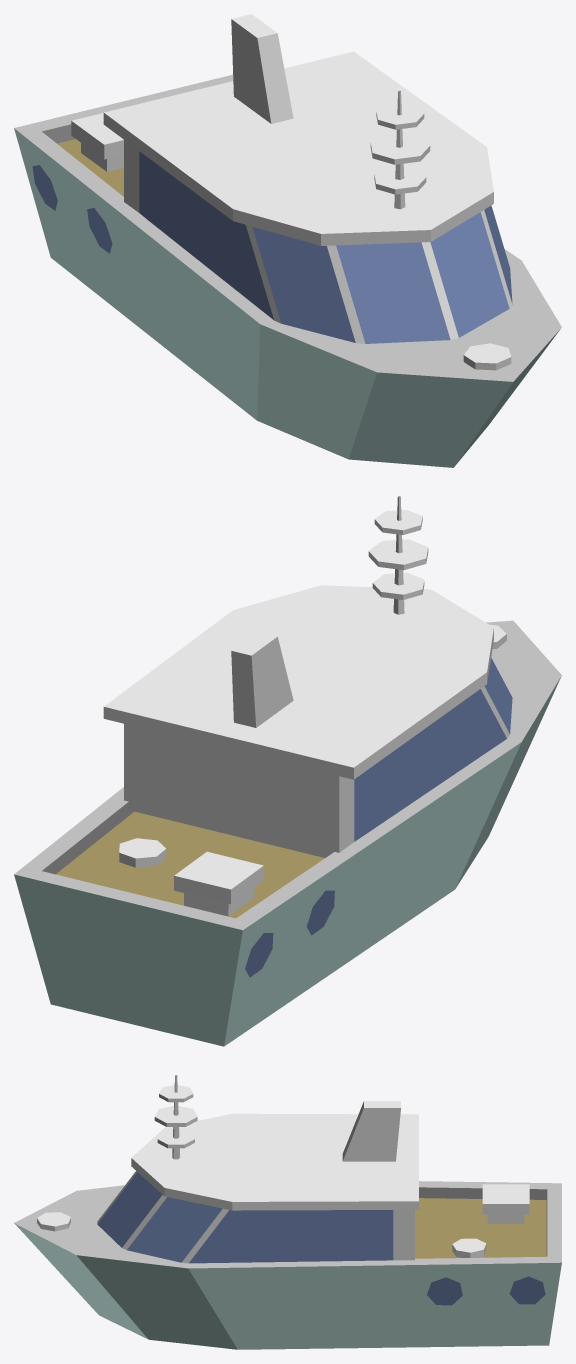
File: transport_water_001.fbx
3 renders of one model, top to bottom at view 1: azimuth 30°, elevation 25°; view 2: azimuth 150°, elevation 25°; view 3: azimuth 270°, elevation 25°, orthographic. The views are drawn at different scales.
Visible parts, largest first — view 1: transport_water_001; view 2: transport_water_001; view 3: transport_water_001.
Boxes of the visible parts, x1,y1,x2,y2 form: transport_water_001: [14, 14, 561, 467]; transport_water_001: [14, 496, 561, 1046]; transport_water_001: [14, 1075, 561, 1349].
Size of the model in its own units: 400 by 492 by 1020.
